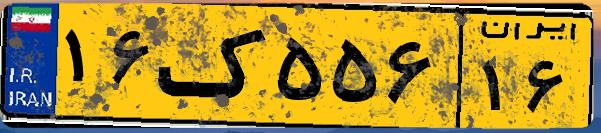1: (57, 26, 110, 100), (475, 38, 525, 113)
5: (270, 28, 330, 110), (330, 28, 385, 110)
6: (385, 28, 445, 110), (525, 38, 570, 115), (110, 28, 158, 98)
ک: (158, 12, 270, 120)
